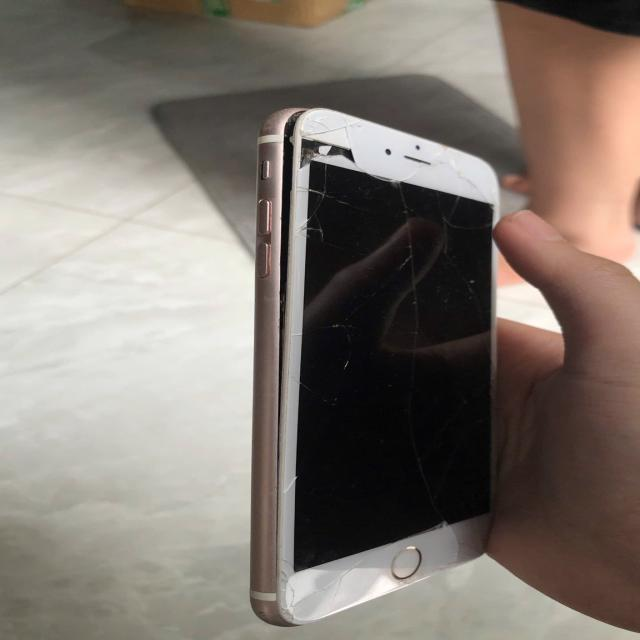gen_7_8: (239, 99, 519, 637)
